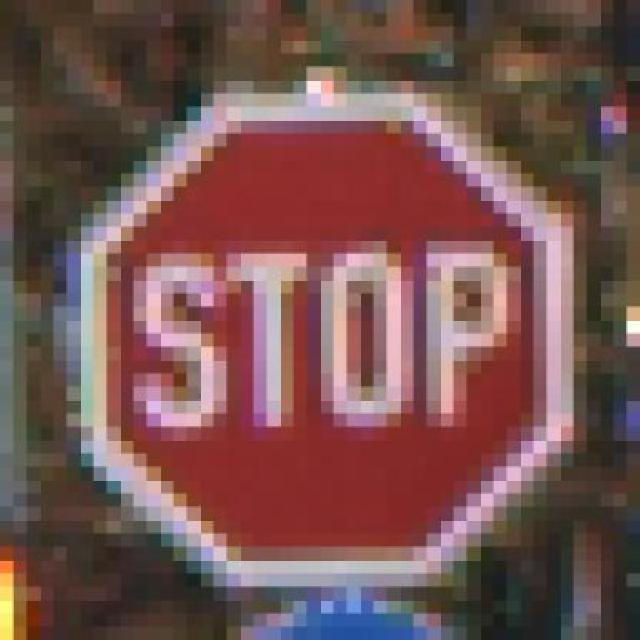Stop_Sign: (53, 53, 587, 587)
